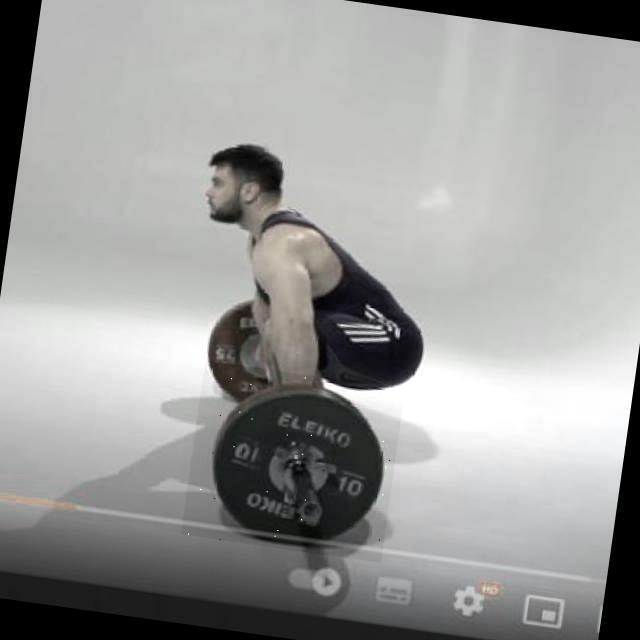barbell: (182, 360, 407, 564)
